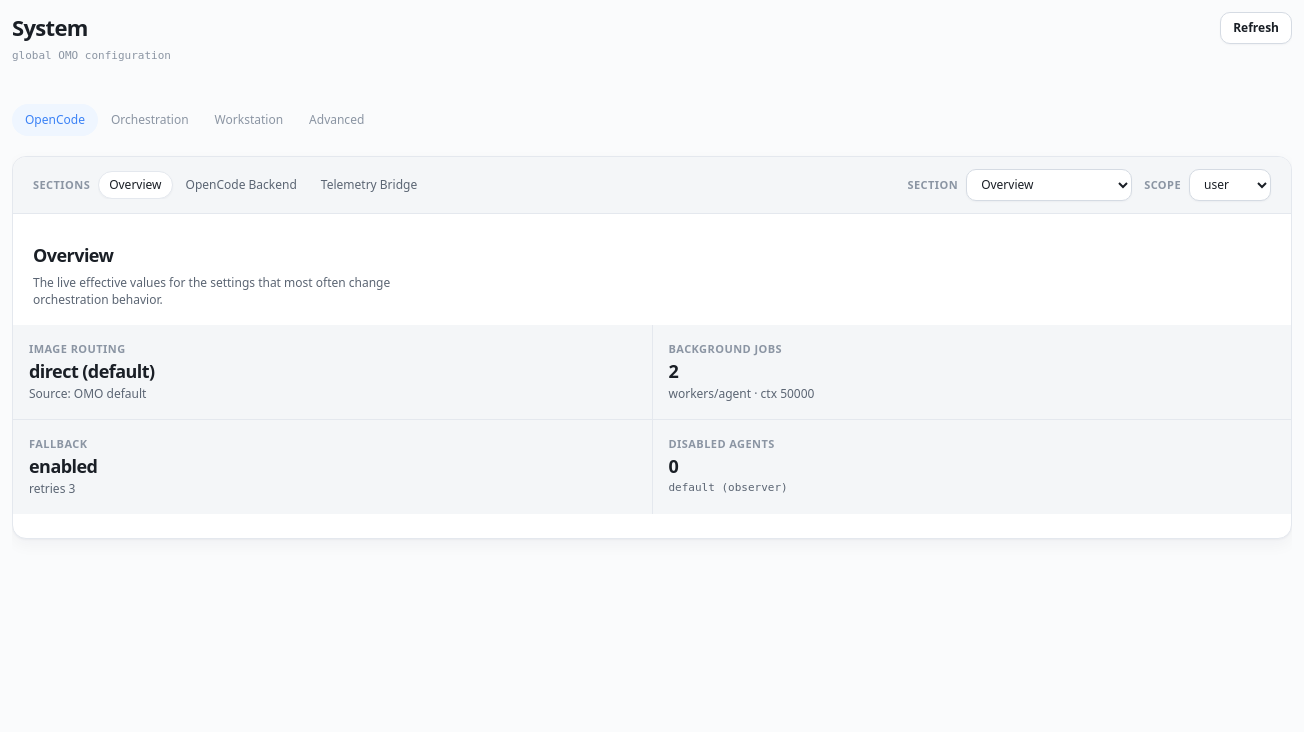
Scenario: System workspace SCHEMA panel › renders package version, schema state, and config validity
The width and height of the screenshot is (1304, 732).
Select "Schema" in the dropdown labelled "Section" at (1049, 185), box [966,169,1132,201]
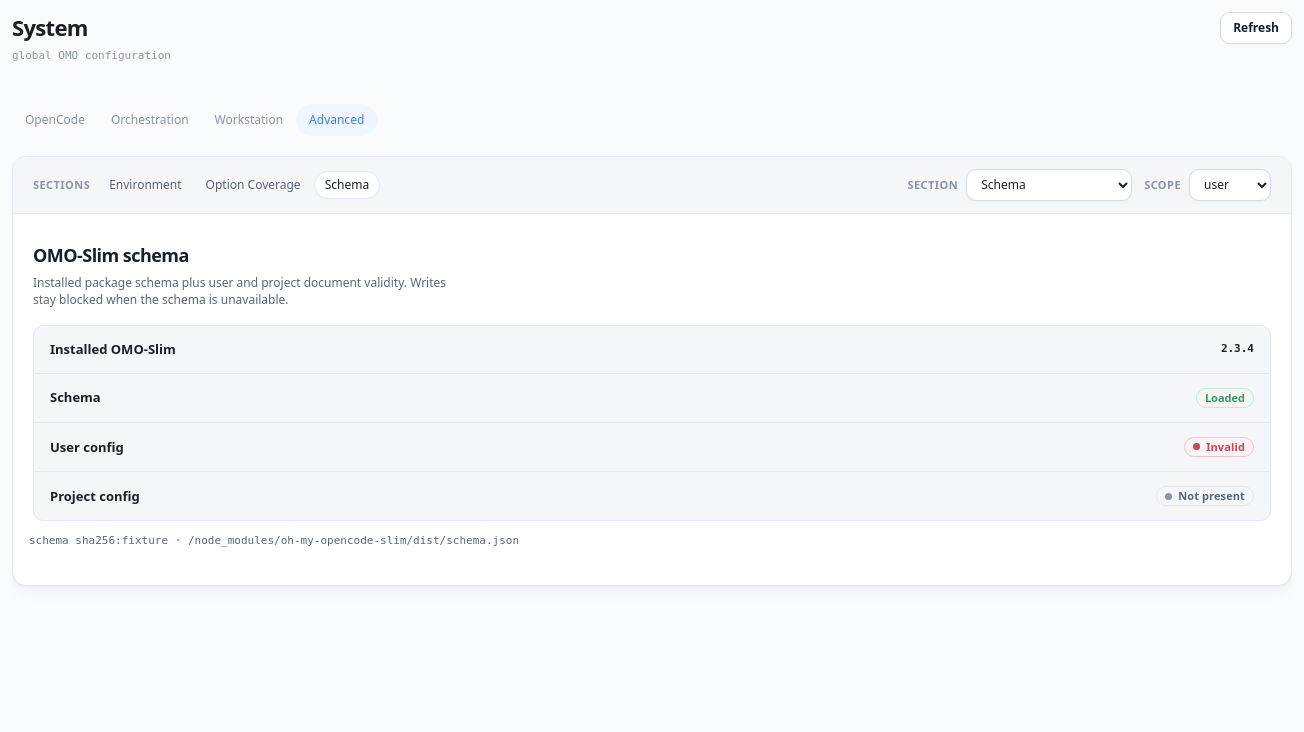
Expected: the text "2.3.4" is shown, [1221,341,1254,357]
Expected: the text "Loaded" is shown, [1196,388,1254,408]
Expected: the text "Invalid" is shown, [1184,437,1254,457]
